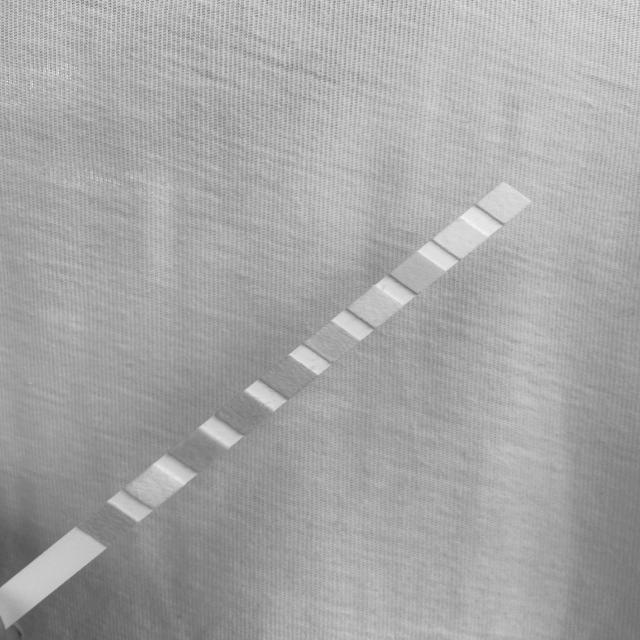Bilirubin: (138, 476, 170, 498)
Blood: (275, 365, 304, 389)
Glucose: (91, 514, 126, 536)
Ketone: (183, 439, 218, 460)
Leukocytes: (490, 191, 519, 213)
Nitrite: (442, 230, 478, 247)
Protein: (363, 294, 389, 320)
SpGravity: (231, 401, 261, 424)
Urobilinogen: (406, 259, 430, 286)
background: (0, 0, 640, 640)
pH: (319, 331, 347, 353)
strip: (7, 182, 531, 605)
